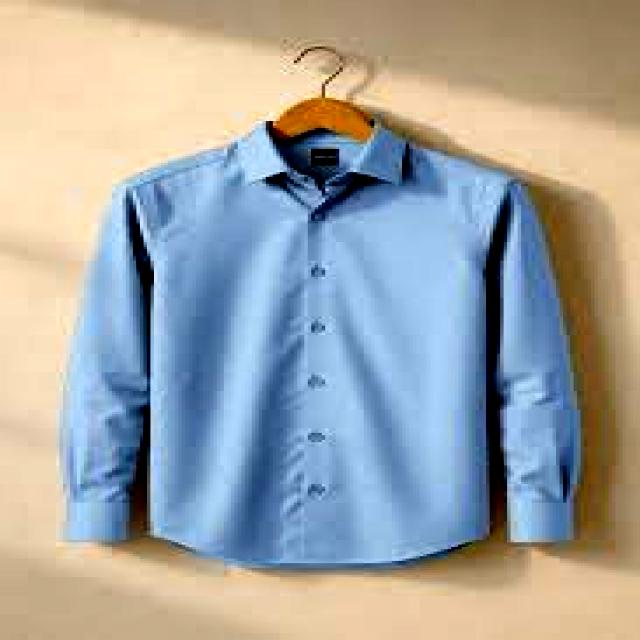top-wear: (58, 111, 580, 564)
